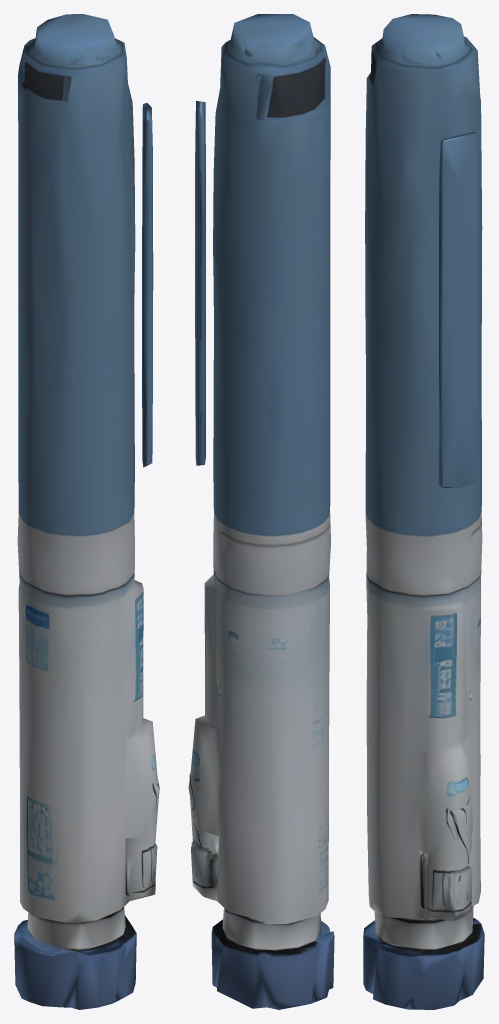
3 renders of one model, left to right at view 1: azimuth 30°, elevation 25°; view 2: azimuth 210°, elevation 25°; view 3: azimuth 330°, elevation 25°, orthographic.
Parts seen in each view (by area): view 1: tripo_node_c219a7fe; view 2: tripo_node_c219a7fe; view 3: tripo_node_c219a7fe.
Boxes of the visible parts, bbox=[...] form: tripo_node_c219a7fe: bbox=[14, 14, 159, 1009]; tripo_node_c219a7fe: bbox=[188, 14, 334, 1009]; tripo_node_c219a7fe: bbox=[363, 14, 484, 1009].
Bounding box in the file's own units: 0.1284 × 1 × 0.114.
